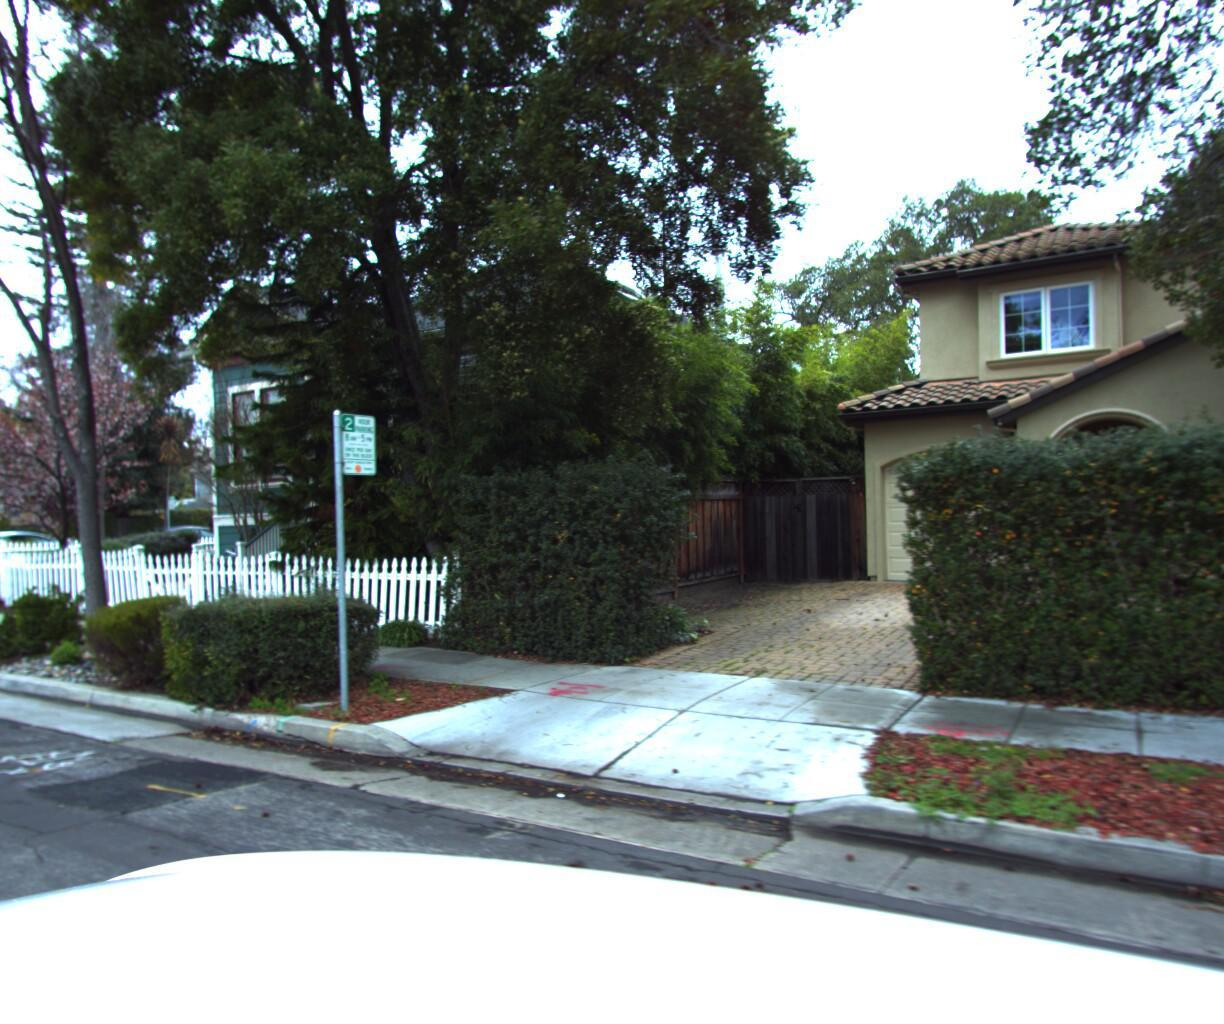car: (0, 533, 110, 585)
